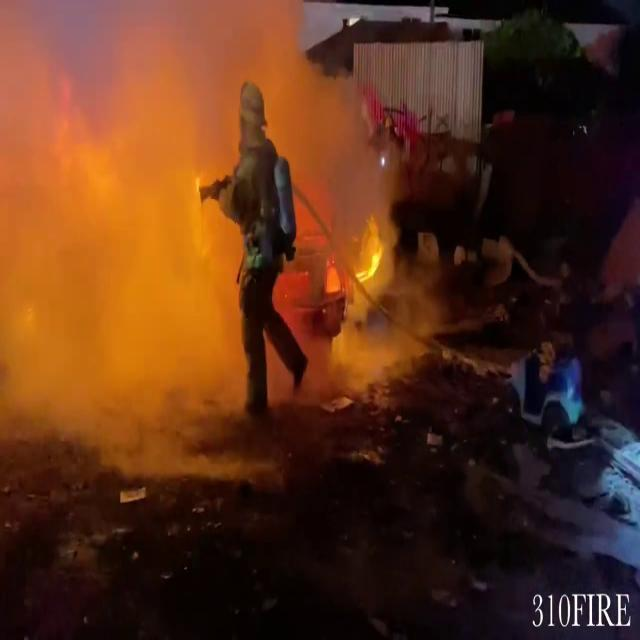Fire: (348, 190, 394, 292)
Smoke: (0, 2, 400, 474), (0, 1, 270, 470)
